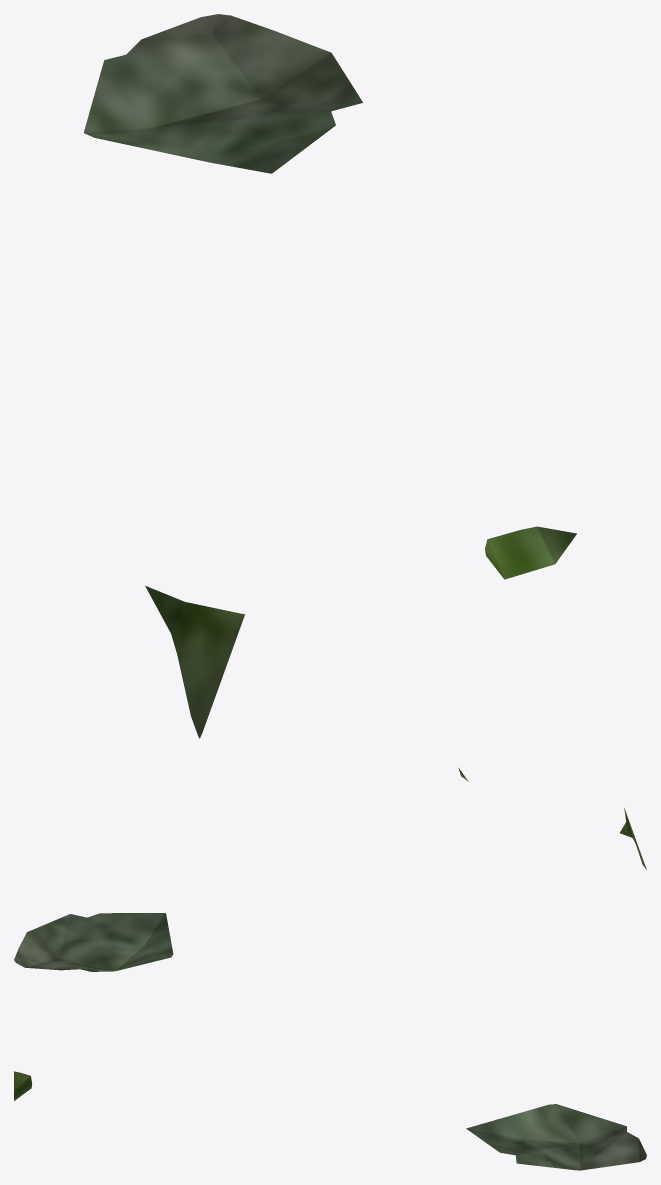
3 views of the same model, one above another, from view 1: azimuth 30°, elevation 25°; view 2: azimuth 150°, elevation 25°; view 3: azimuth 270°, elevation 25° (orthographic). The views are drawn at different scales.
Size of the model in its own units: 2.09 by 0.3299 by 3.29.
Materials: 1 (1 with a texture image).
